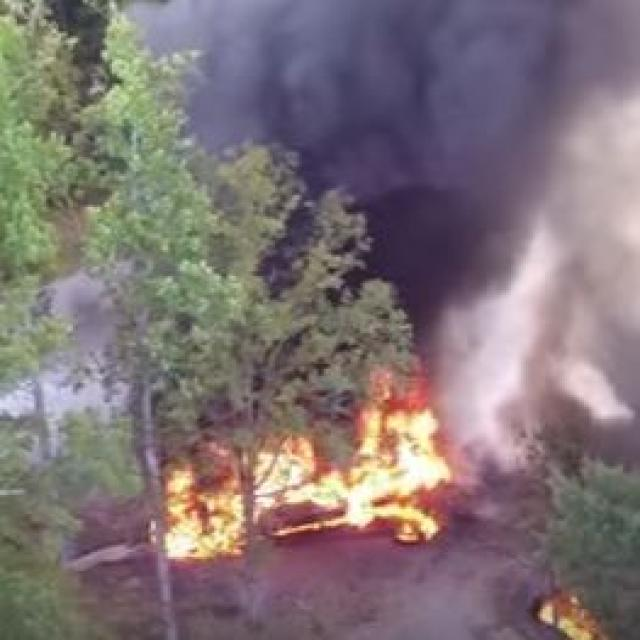Fire: (161, 358, 488, 560)
Smoke: (119, 5, 640, 382)
